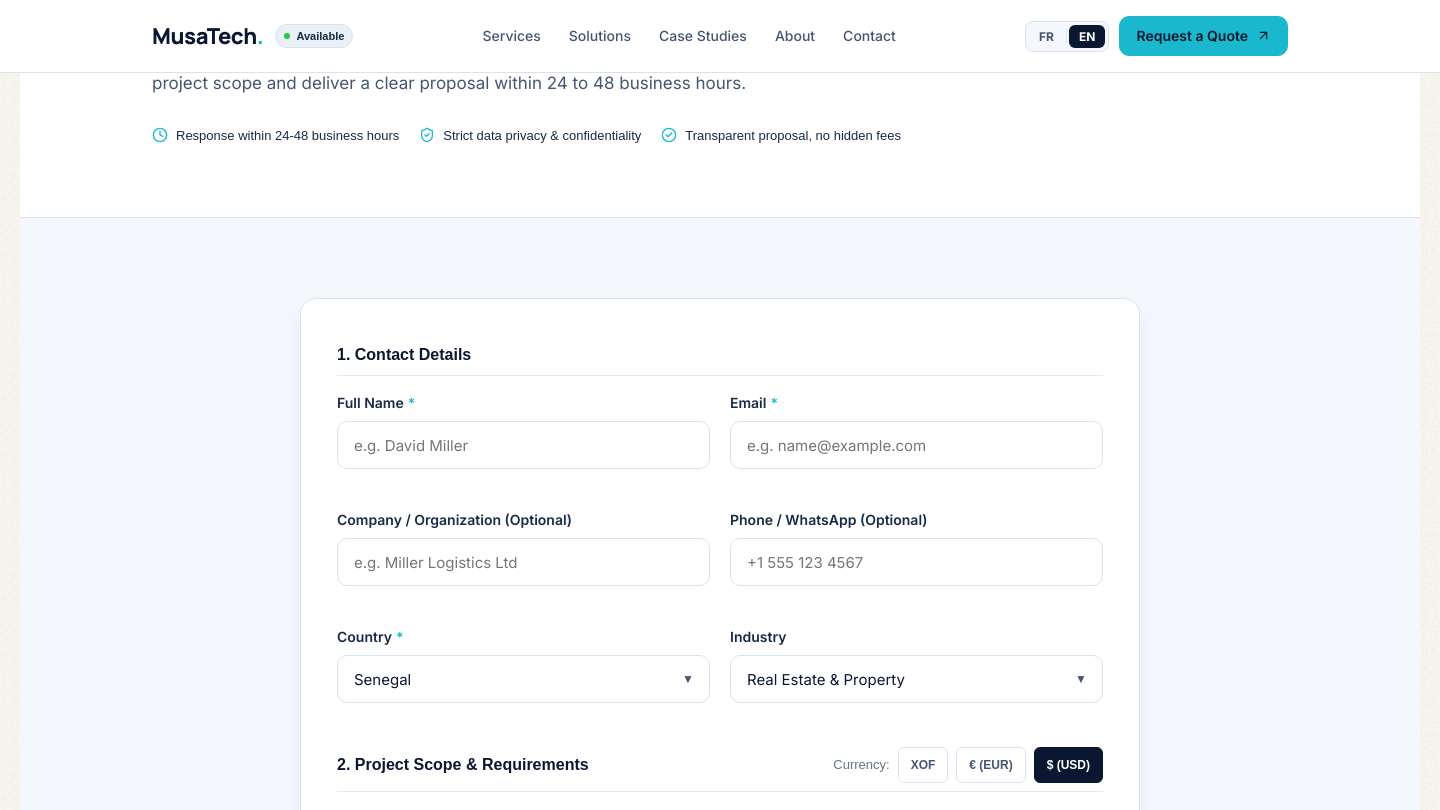
MusaTech Internationalization (i18n) & Localized Routing › Bilingual Quote Form (/en/quote) › renders /en/quote with English labels, USD/EUR currency selector, and submits successfully
The width and height of the screenshot is (1440, 810).
(page scrolled)
Expected: the heading "1. Contact Details" is shown, [337,343,1103,376]
Expected: the heading "2. Project Scope & Requirements" is shown, [337,753,589,777]
Type "John Smith" into the field labelled "Full Name*" at {"x": 524, "y": 445}, box [337,421,710,469]
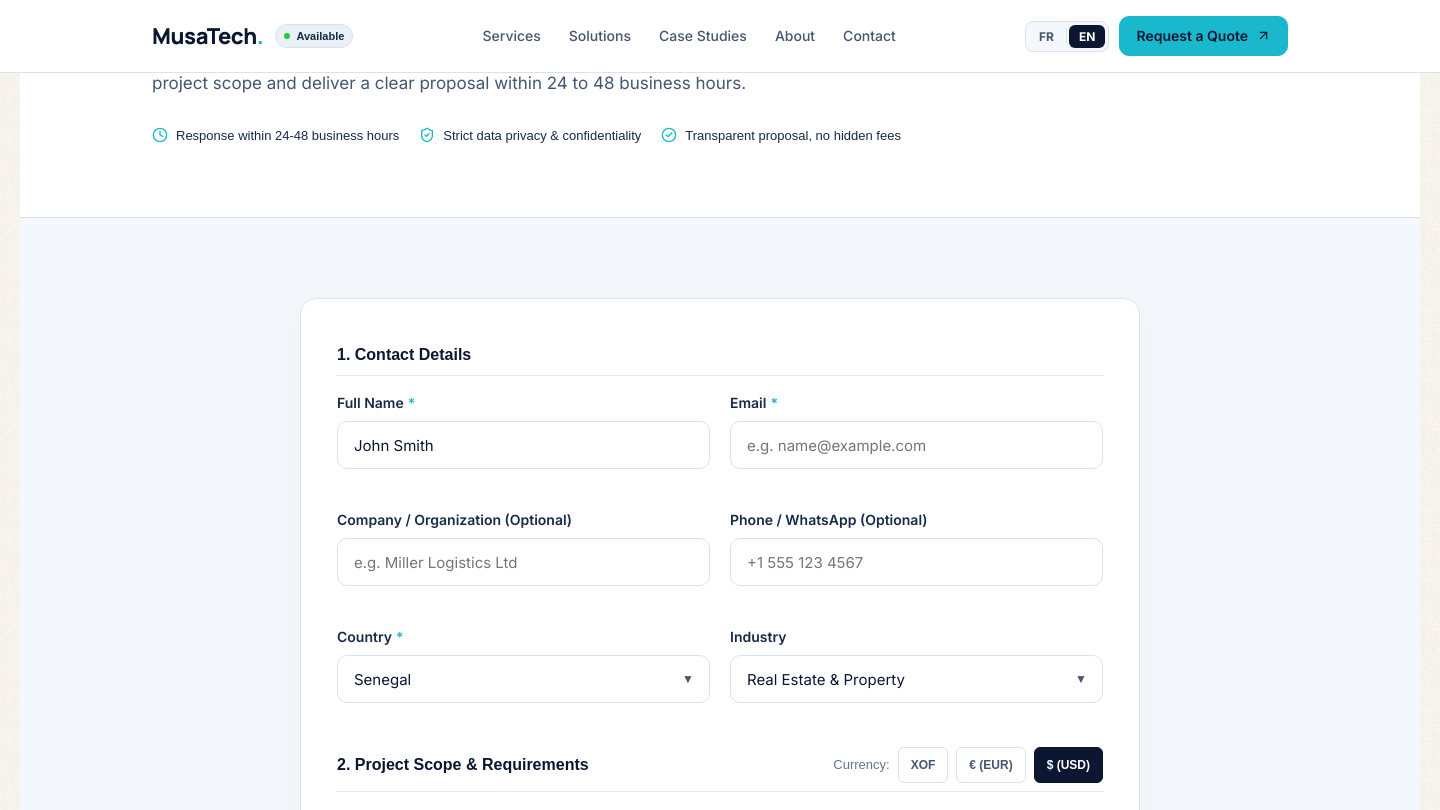
Type "john@smith-logistics.com" into the field labelled "Email*" at {"x": 916, "y": 445}, box [730,421,1103,469]
(page scrolled)
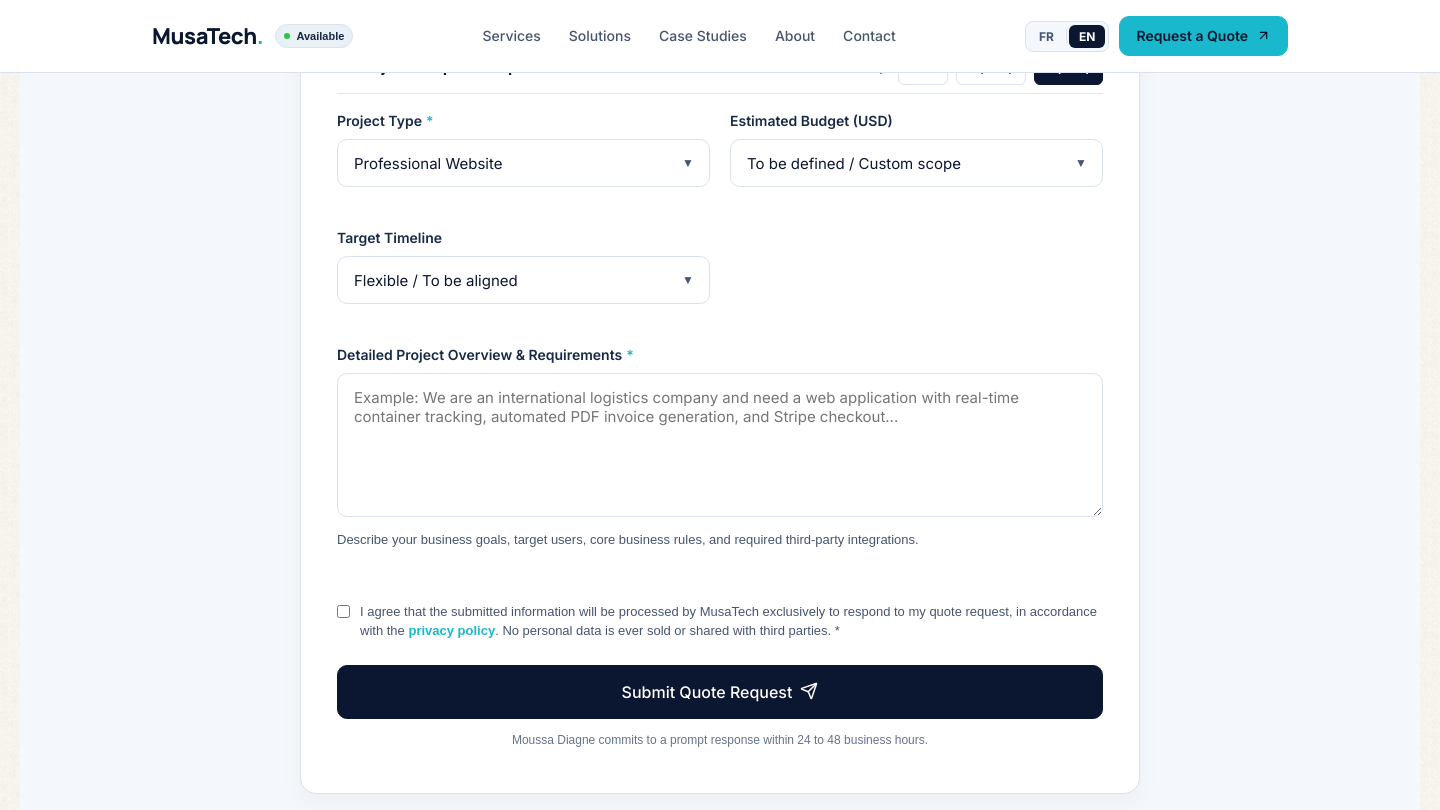
Replace the text in the text box labelled "Detailed Project Overview & Requirements*" with "We are looking to develop an enterprise logistics tracking dashboard with automated billing and live driver dispatching." at {"x": 720, "y": 445}, box [337,373,1103,517]
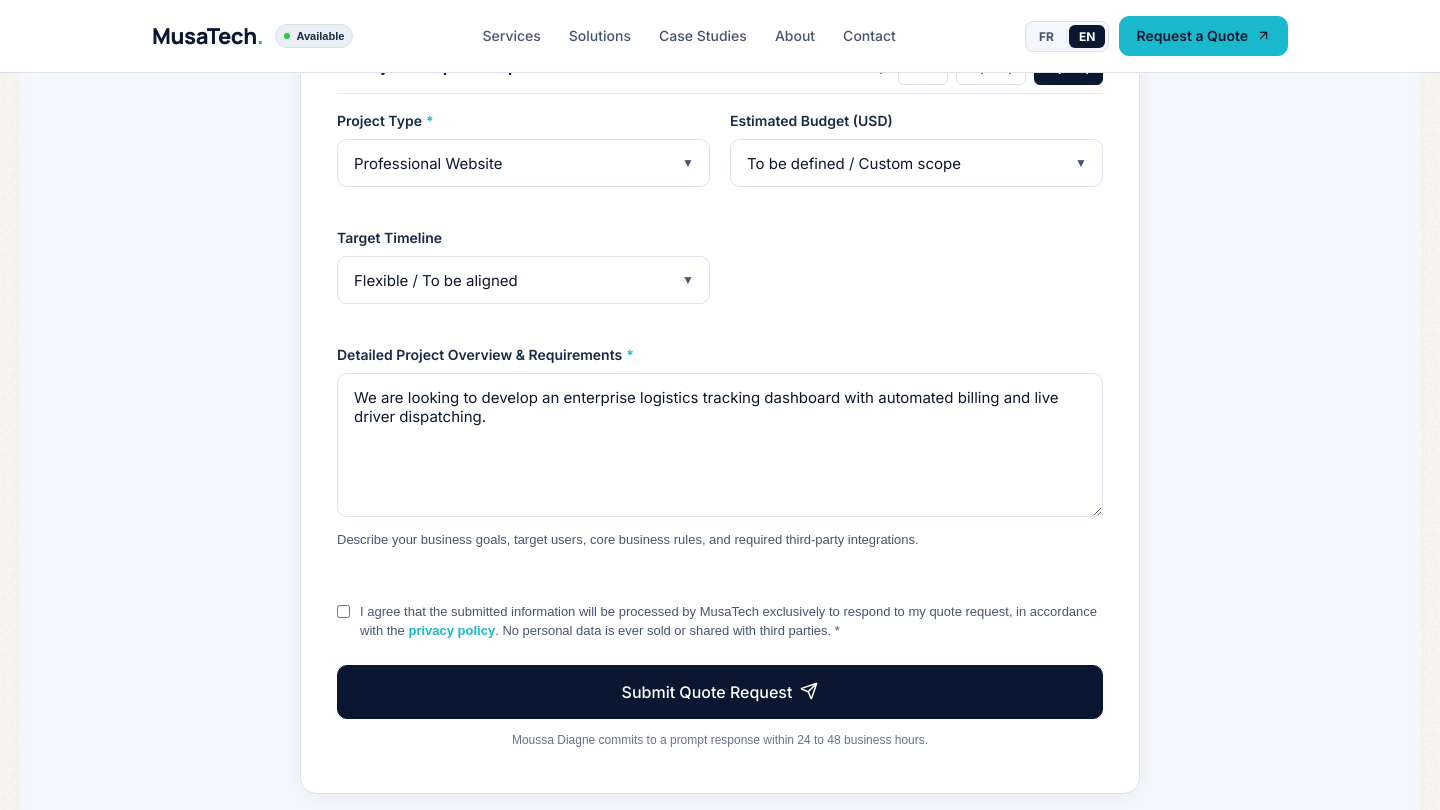
Click the checkbox at {"x": 344, "y": 611}, box [337,605,350,618]
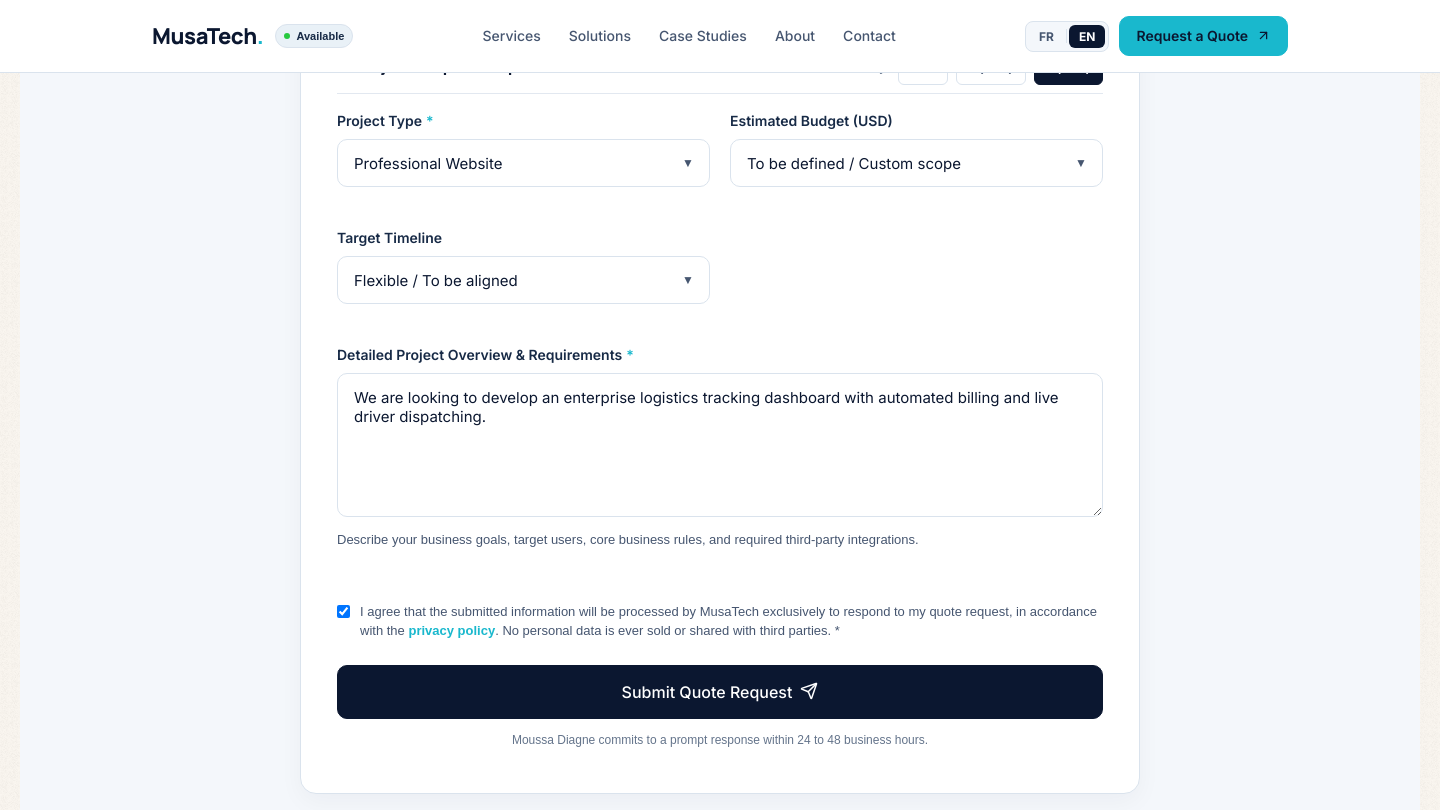
Click the button "Submit Quote Request" at {"x": 720, "y": 692}, box [337,665,1103,719]
(page scrolled)
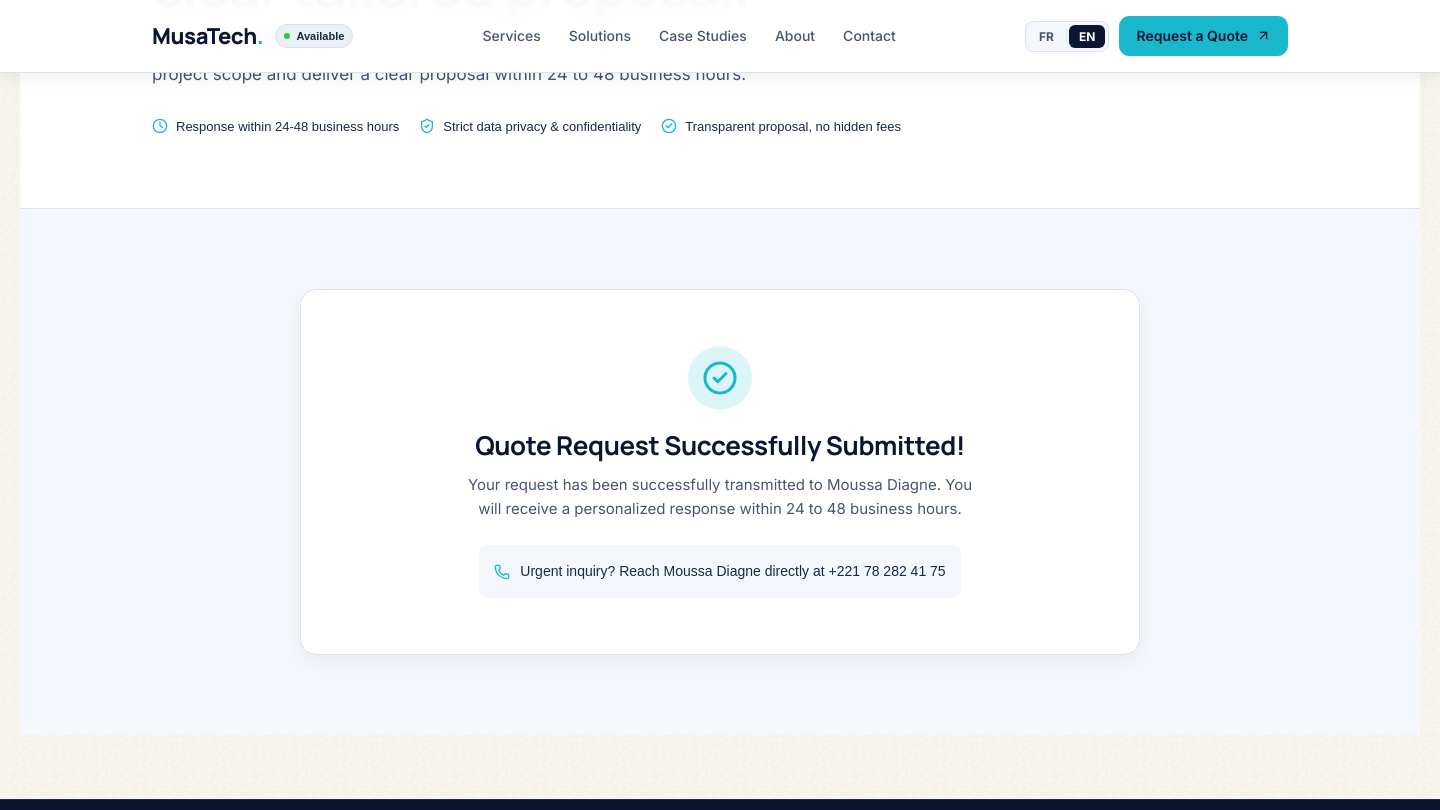
Now the heading "Quote Request Successfully Submitted!" is shown, box [475,427,965,463]
